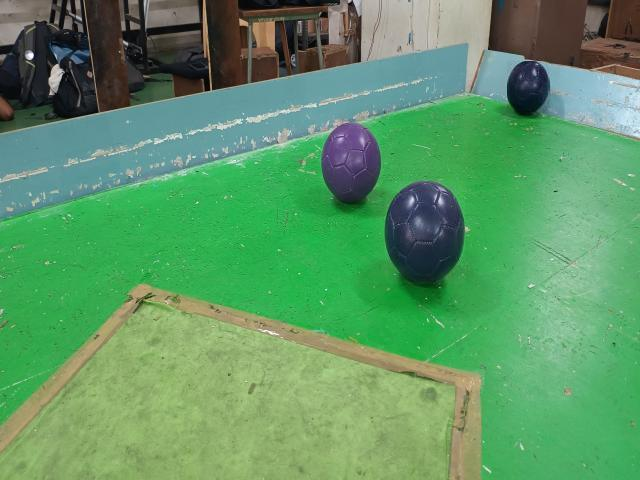jambhalya: (322, 122, 381, 203)
kaalyya: (385, 182, 465, 284), (507, 61, 549, 114)
